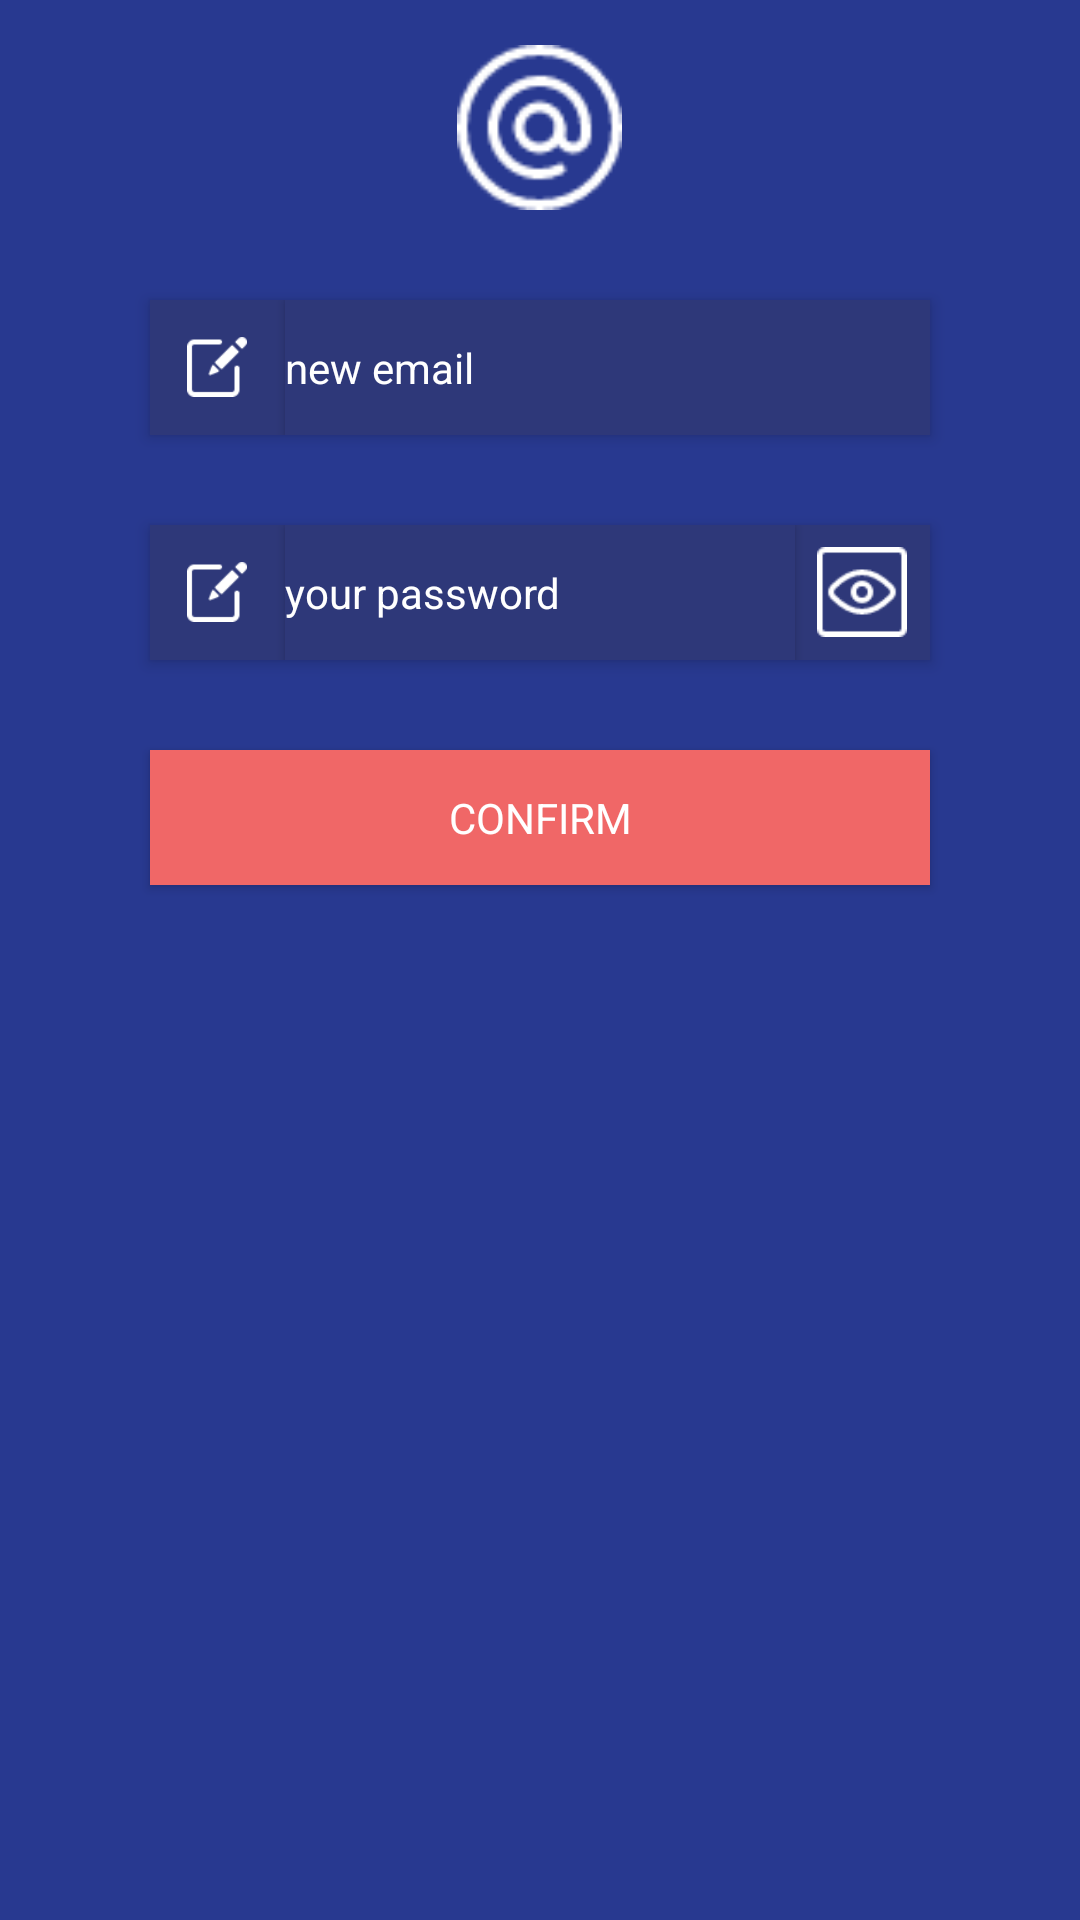

Where to tap for icons on this 1080x1920 app screen, as point (x, y):
eye: point (862, 592)
pencil: point (217, 367), point (217, 592)
